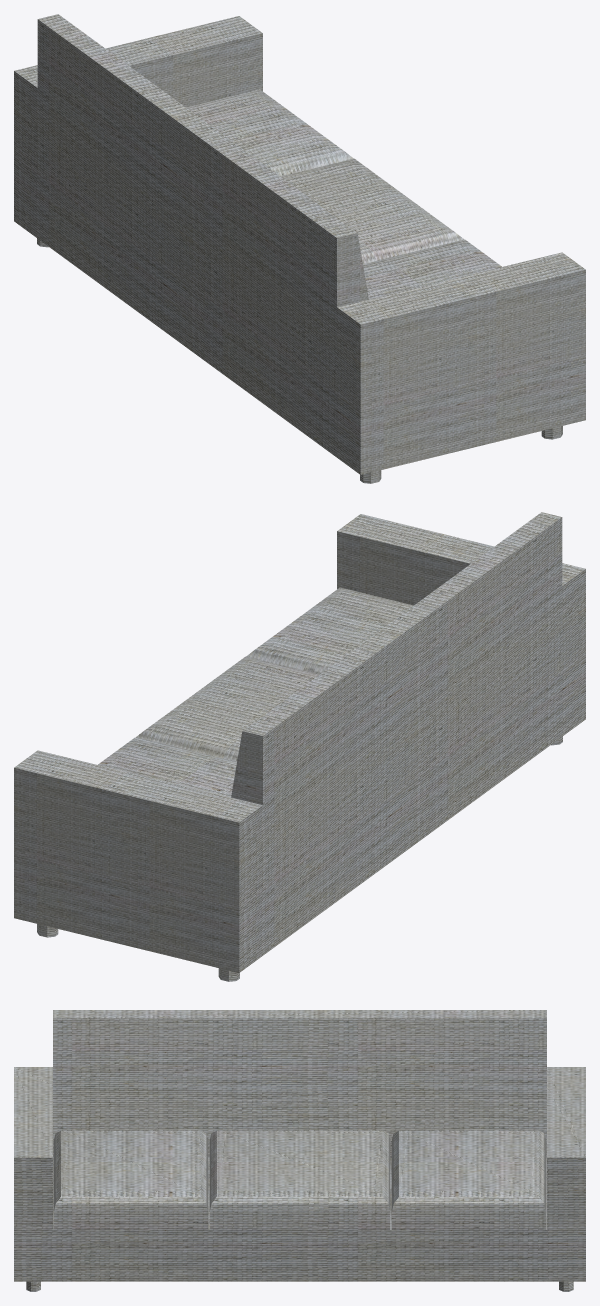
Rendered from Sofa.FBX.
3 views of the same model, one above another, from view 1: azimuth 30°, elevation 25°; view 2: azimuth 150°, elevation 25°; view 3: azimuth 270°, elevation 25° (orthographic). The views are drawn at different scales.
Visible parts, largest first — view 1: Box001; view 2: Box001; view 3: Box001.
Part boxes in pixels (left/top/right/bottom): Box001: left=14, top=14, right=585, bottom=483; Box001: left=14, top=512, right=585, bottom=981; Box001: left=14, top=1010, right=585, bottom=1291.
Size of the model in its own units: 29.53 by 29.82 by 78.74.
Materials: 1 (1 with a texture image).
